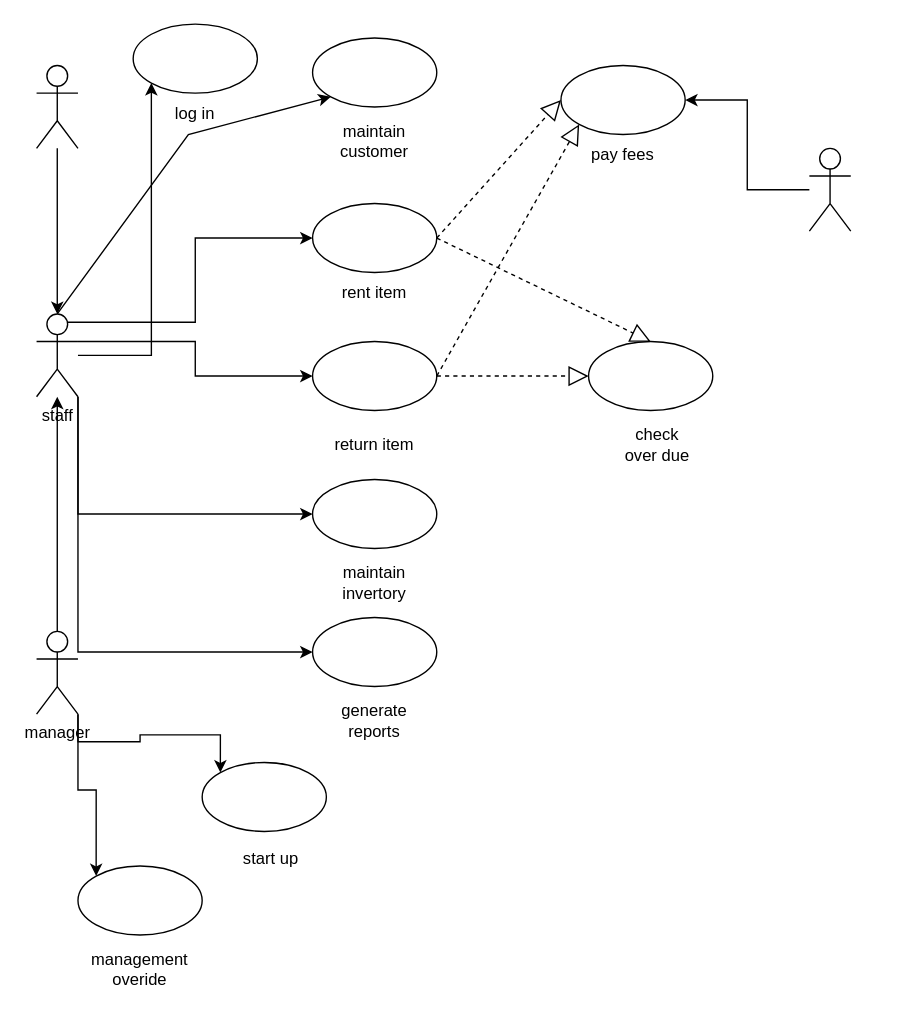
The diagram is 920 pixels wide and 1014 high, and some of its shapes have lost their labels. The box of each missing label's shape, as (x1, y1, x2, y2) in pixels:
credit card system: (808, 147, 851, 231)
customer: (35, 64, 78, 148)
